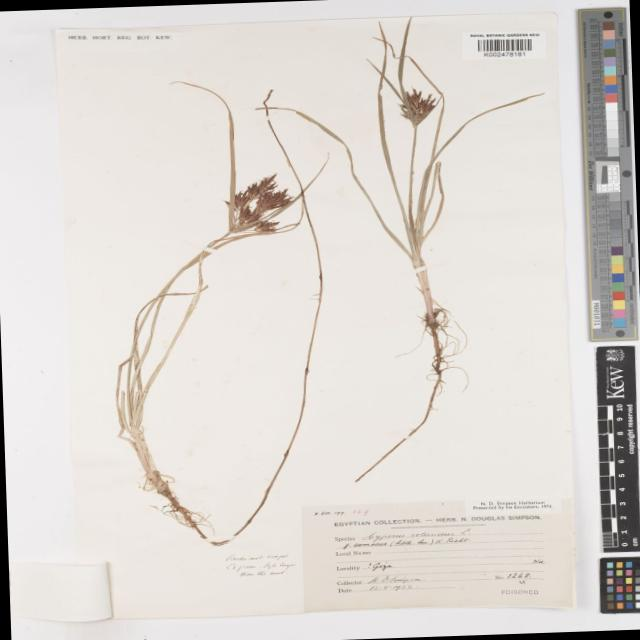cyperus: (206, 166, 314, 252), (386, 85, 444, 132)
